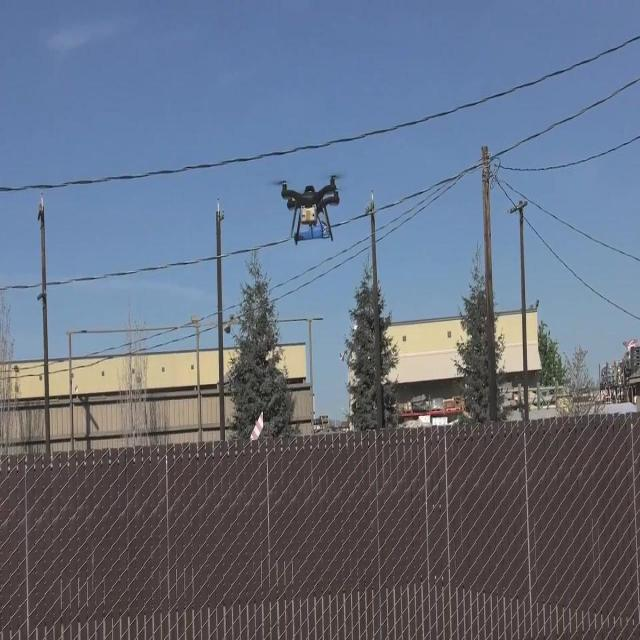UAV: (274, 175, 340, 245)
